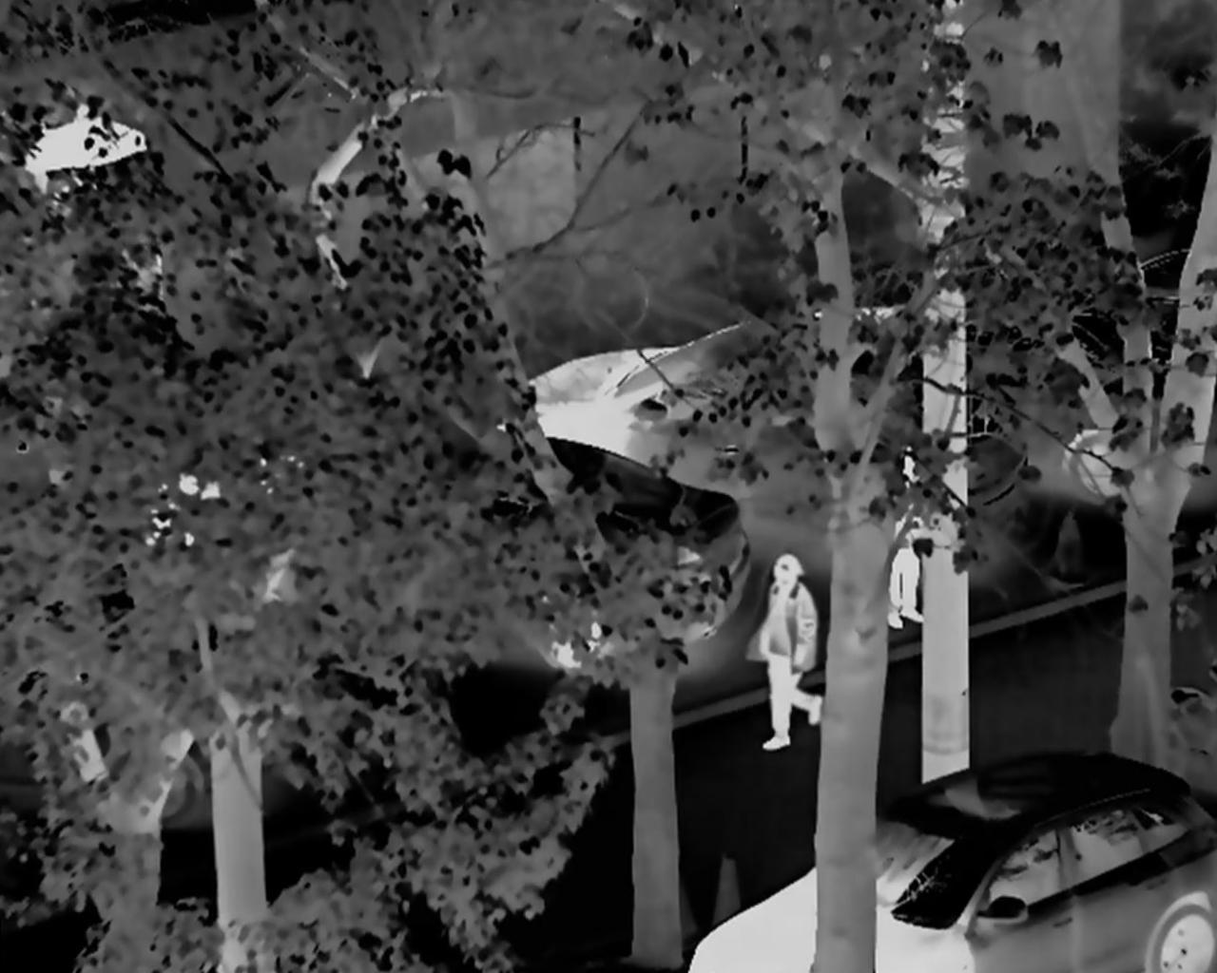person: (744, 551, 827, 756), (858, 440, 924, 630)
